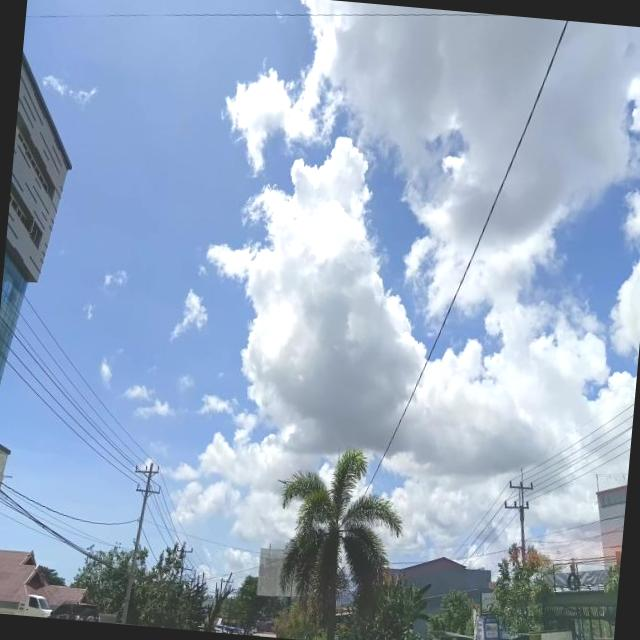cumulus: (177, 2, 640, 466)
